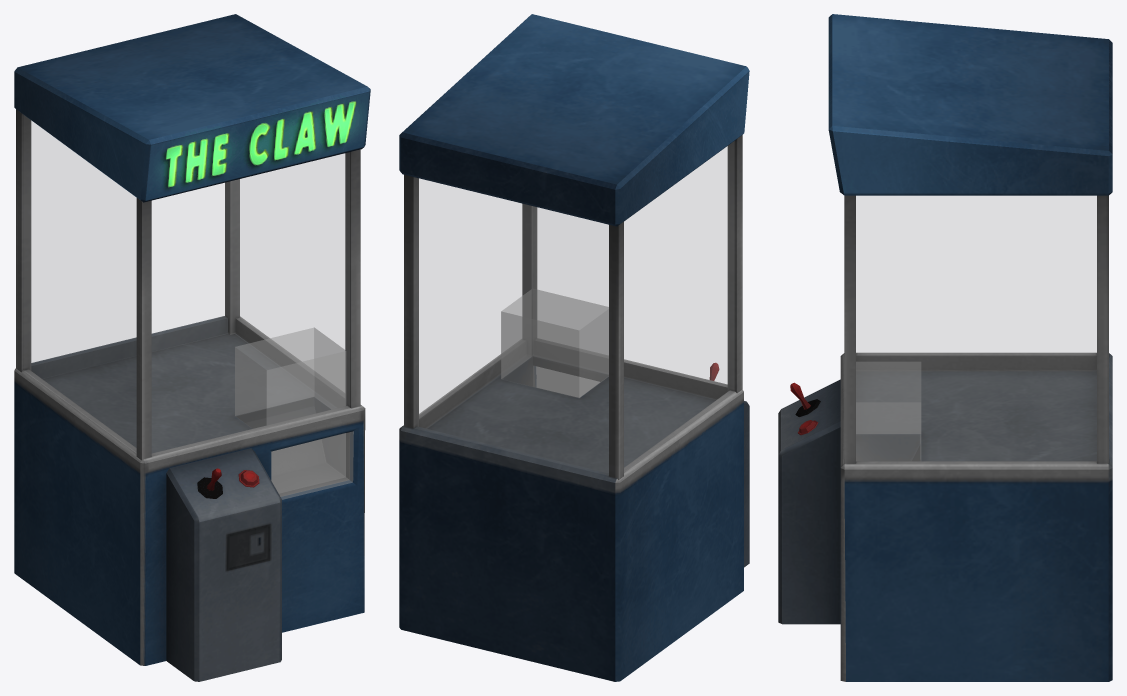
File: boxoutnewWithOutWebp.glb
3 renders of one model, left to right at view 1: azimuth 30°, elevation 25°; view 2: azimuth 150°, elevation 25°; view 3: azimuth 270°, elevation 25°, orthographic. The views are drawn at different scales.
Visible parts, largest first — view 1: body, other, dimian, box, Plane; view 2: body, other, dimian, box; view 3: body, other, dimian, box.
Boxes of the visible parts, x1,y1,x2,y2 form: body: [14, 14, 370, 681]; other: [24, 116, 349, 455]; dimian: [42, 333, 313, 453]; box: [235, 327, 345, 493]; Plane: [271, 431, 353, 499]; body: [399, 14, 749, 681]; other: [414, 142, 733, 474]; dimian: [427, 376, 716, 472]; box: [501, 289, 608, 397]; body: [778, 14, 1112, 681]; other: [856, 196, 1096, 462]; dimian: [856, 371, 1096, 461]; box: [856, 362, 921, 460].
Size of what is drawn, in the model's own units: 1.86 by 4.19 by 2.29.
Materials: 4 (2 with a texture image).
